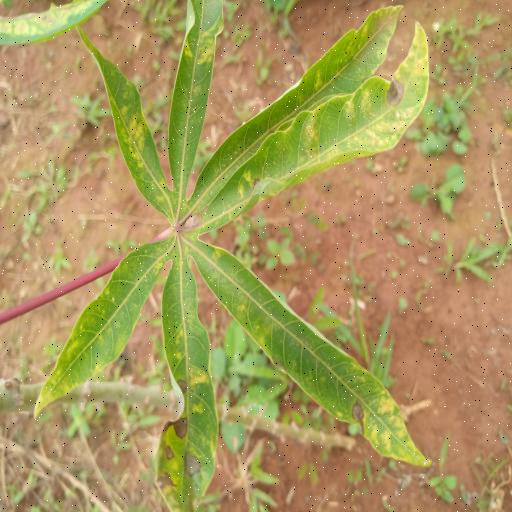Cassava_Mosaic: (37, 0, 435, 512)
